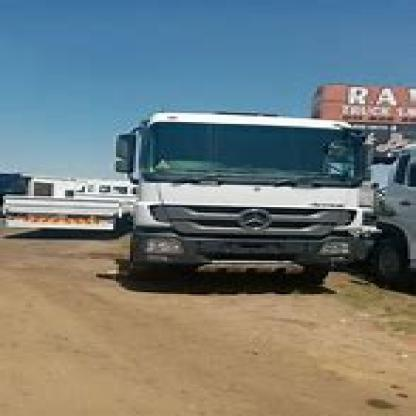dump_truck: (110, 87, 414, 299)
